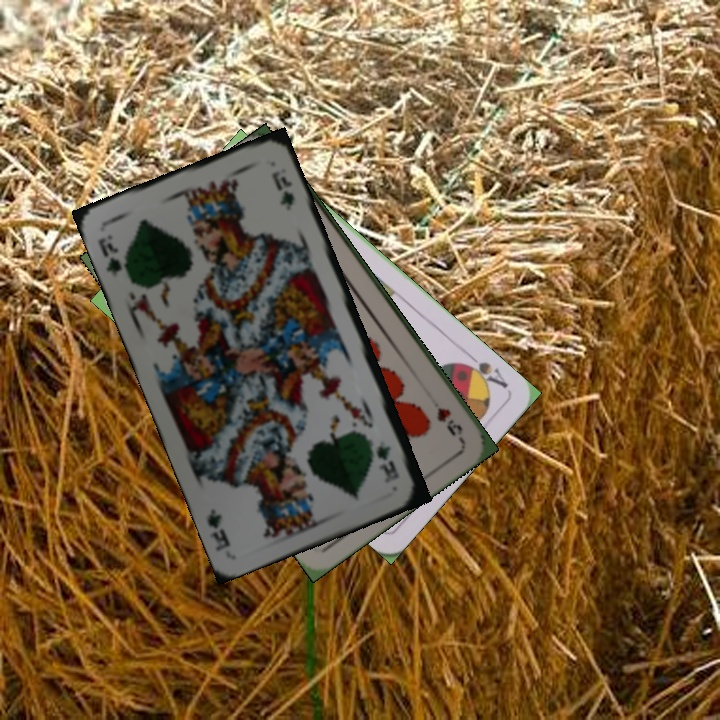GK: (93, 230, 125, 280), (373, 436, 402, 484)
H9: (432, 403, 466, 444)
SA: (455, 349, 511, 392)
